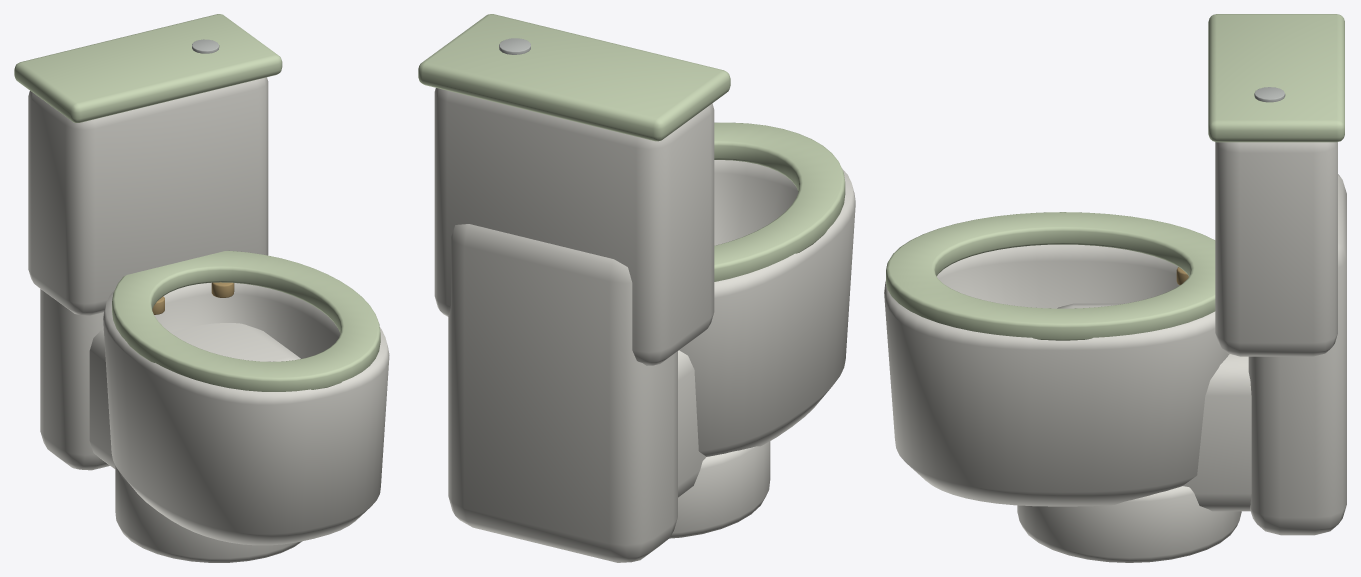
File: one-piece-toilet.glb
3 views of the same model, side by side, from view 1: azimuth 30°, elevation 25°; view 2: azimuth 150°, elevation 25°; view 3: azimuth 270°, elevation 25° (orthographic). The views are drawn at different scales.
Parts seen in each view (by area): view 1: one-piece-toilet; view 2: one-piece-toilet; view 3: one-piece-toilet.
Boxes of the visible parts, bbox=[...] form: one-piece-toilet: bbox=[14, 14, 389, 562]; one-piece-toilet: bbox=[418, 14, 855, 562]; one-piece-toilet: bbox=[884, 14, 1346, 562].
Bounding box in the file's own units: 0.4 × 0.74 × 0.68.
